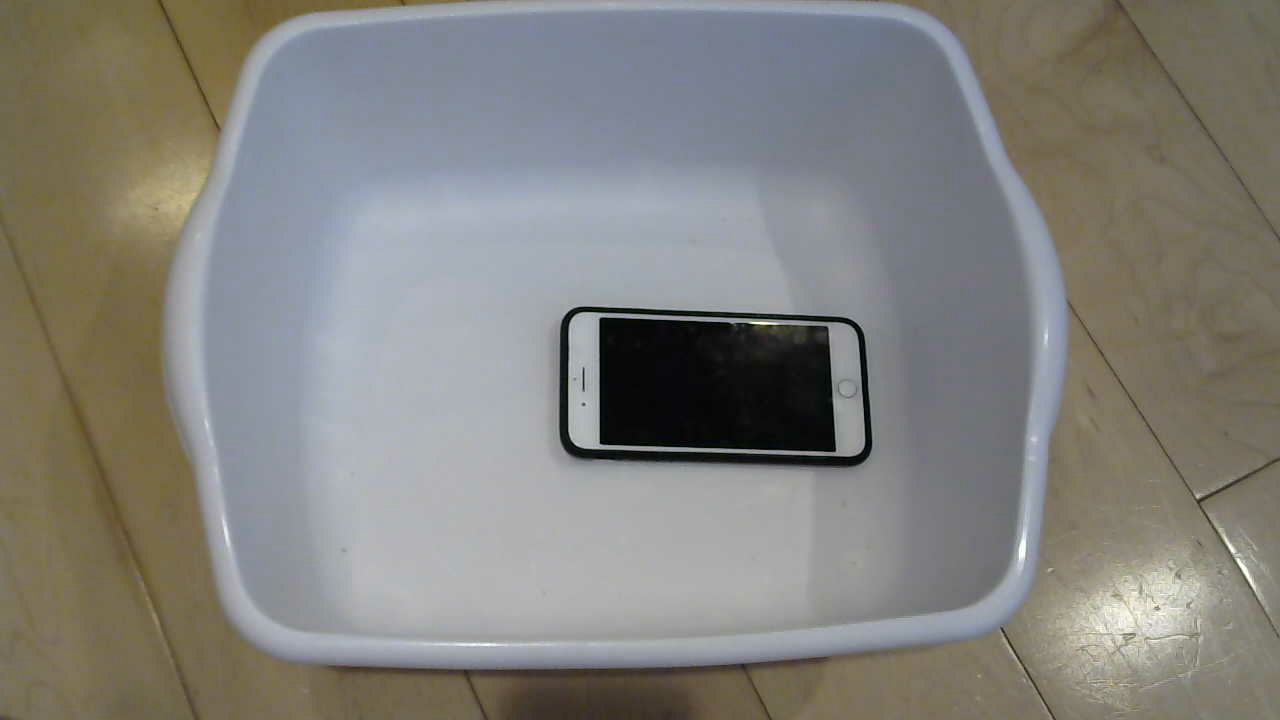phone: (559, 306, 884, 477)
